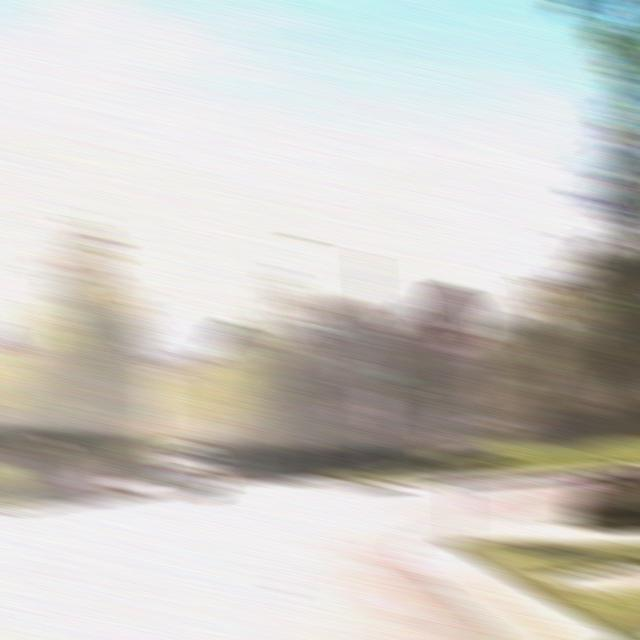stop_sign: (420, 283, 482, 348)
